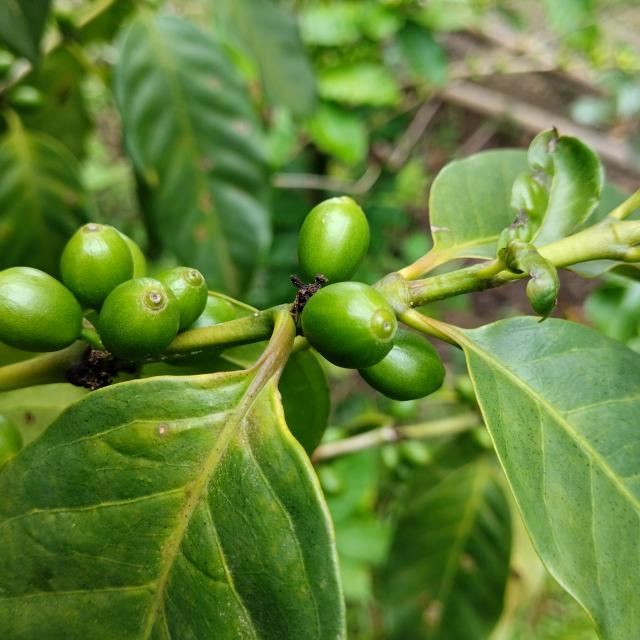green: (301, 282, 398, 369), (0, 267, 82, 352), (97, 277, 179, 361), (59, 222, 133, 311), (298, 196, 370, 284), (359, 329, 446, 401), (155, 267, 208, 330), (182, 295, 236, 332), (112, 228, 146, 278), (168, 350, 222, 367)
